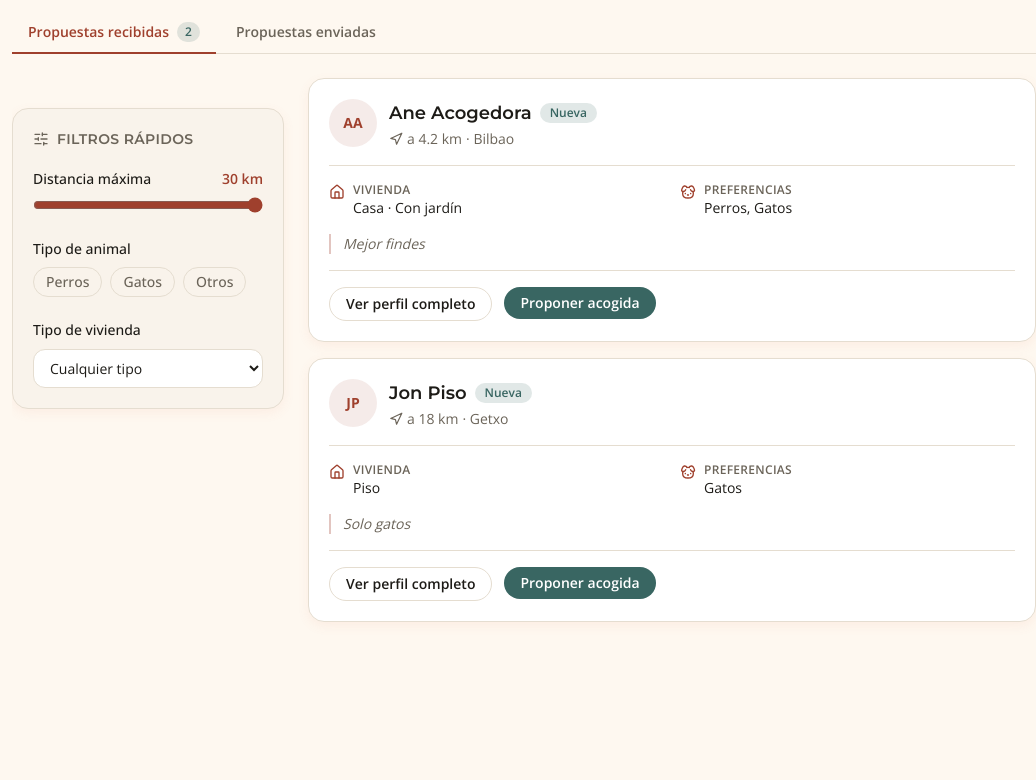
Test: GestionAcogidas › filtra por tipo de animal con los chips
Activa solo "Perros": Jon (solo gatos) desaparece
Click the button "Perros".
click(68, 282)  # box [33,267,102,297]
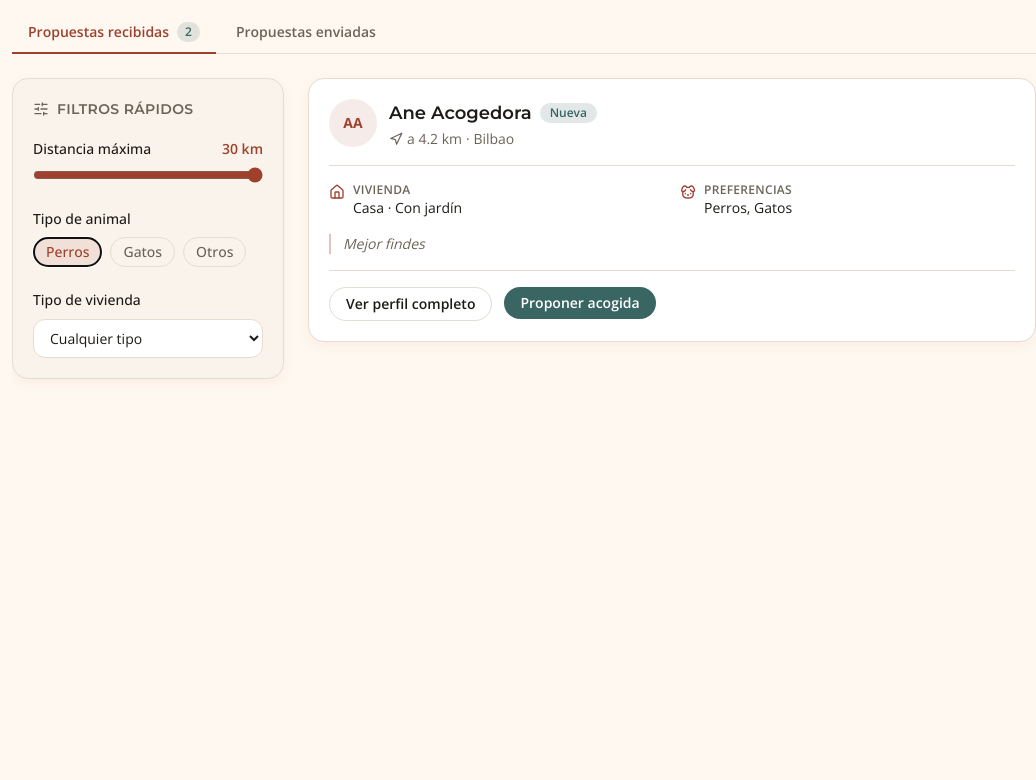
Expected: the heading "Ane Acogedora" is shown, [389,99,532,127]
Now the heading "Jon Piso" is gone
